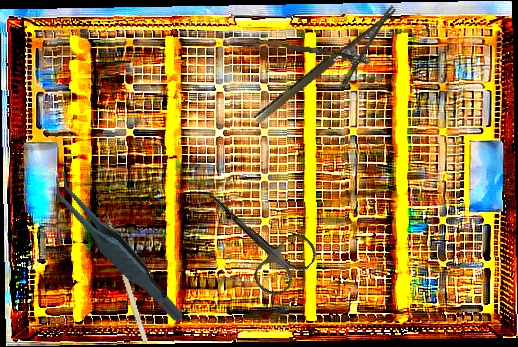Iris Scissors: (184, 166, 323, 303)
Needle Holder: (251, 5, 415, 143), (104, 208, 169, 344)
Pusher: (244, 37, 354, 60)
Tissue Forceps: (48, 154, 186, 343)
